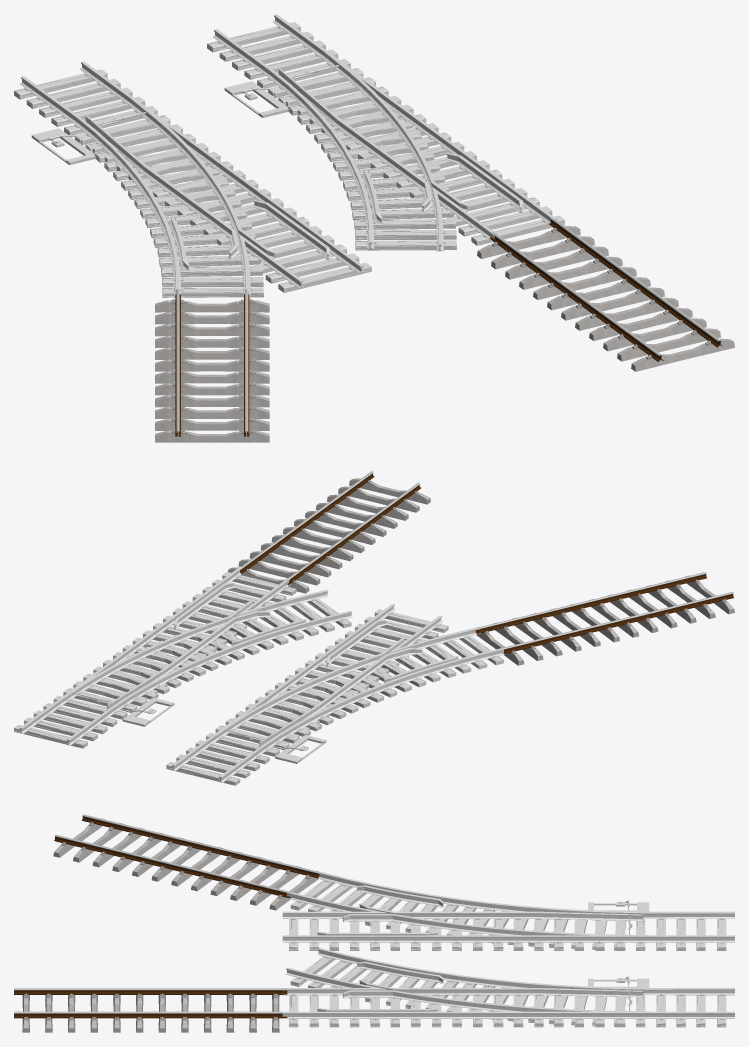
The model's file is yol.fbx.
The picture shows the model from 3 angles, top to bottom: view 1: azimuth 30°, elevation 25°; view 2: azimuth 150°, elevation 25°; view 3: azimuth 270°, elevation 25°; orthographic projection. The views are drawn at different scales.
Visible parts, largest first — view 1: #3 turnout, railroad mesh_2, railroad mesh_1; view 2: #3 turnout, railroad mesh_1, railroad mesh_2; view 3: #3 turnout, railroad mesh_2, railroad mesh_1.
Part boxes in pixels (x1=…): #3 turnout: x1=14, y1=14, x2=564, y2=298; railroad mesh_2: x1=155, y1=289, x2=269, y2=442; railroad mesh_1: x1=477, y1=218, x2=734, y2=371; #3 turnout: x1=14, y1=566, x2=504, y2=785; railroad mesh_1: x1=228, y1=471, x2=430, y2=593; railroad mesh_2: x1=475, y1=572, x2=734, y2=665; #3 turnout: x1=282, y1=871, x2=734, y2=1027; railroad mesh_2: x1=53, y1=814, x2=319, y2=910; railroad mesh_1: x1=14, y1=988, x2=287, y2=1032.
Bounding box in the file's own units: 2473 × 71.01 × 3582.
